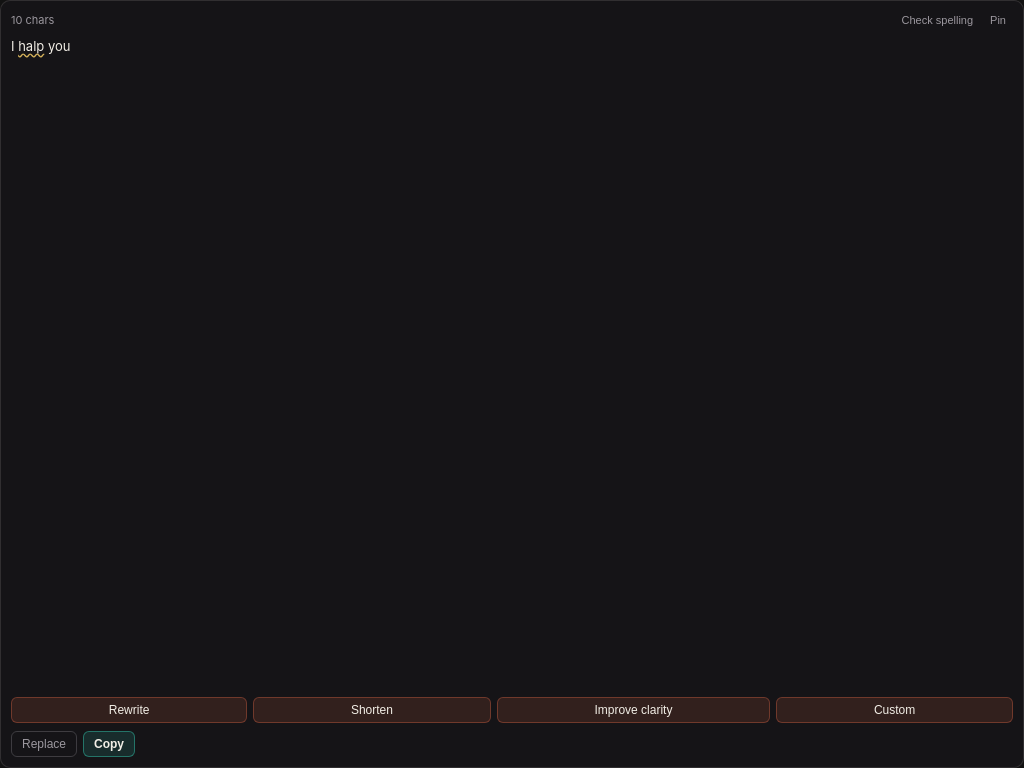
Test: popover App › shows 'No suggestions' when a misspelling has none
Click the text with class "mark": (31, 46) 18,38 -> 44,54
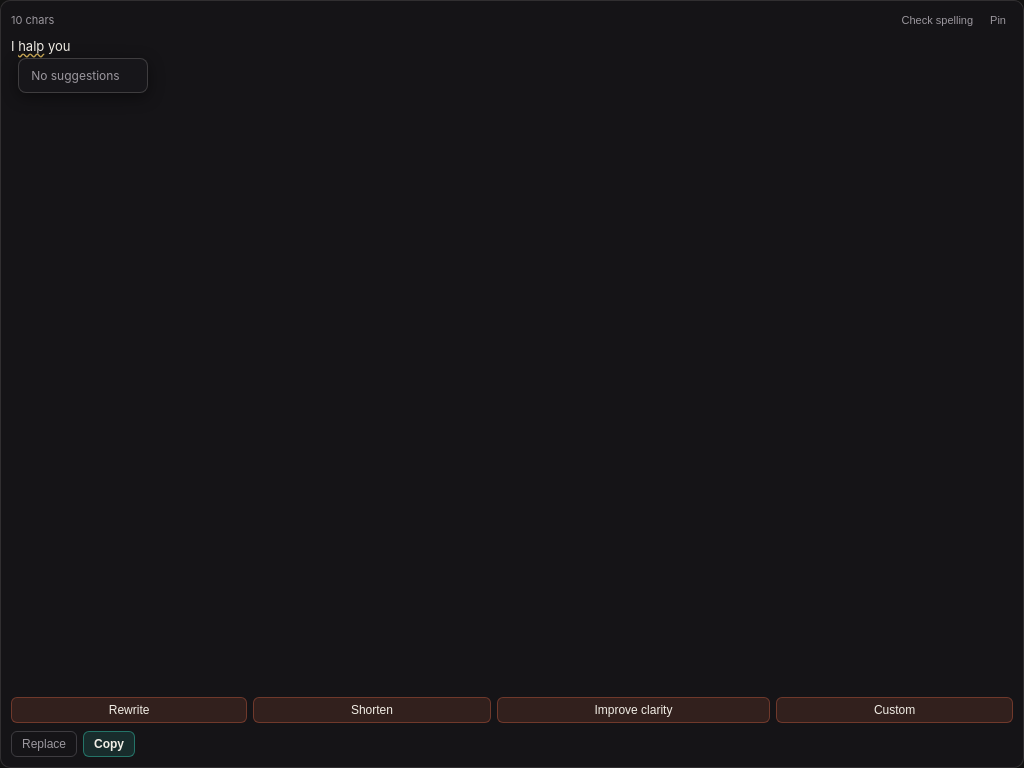
Check: the text "No suggestions" is shown, box 31,68 -> 120,83
